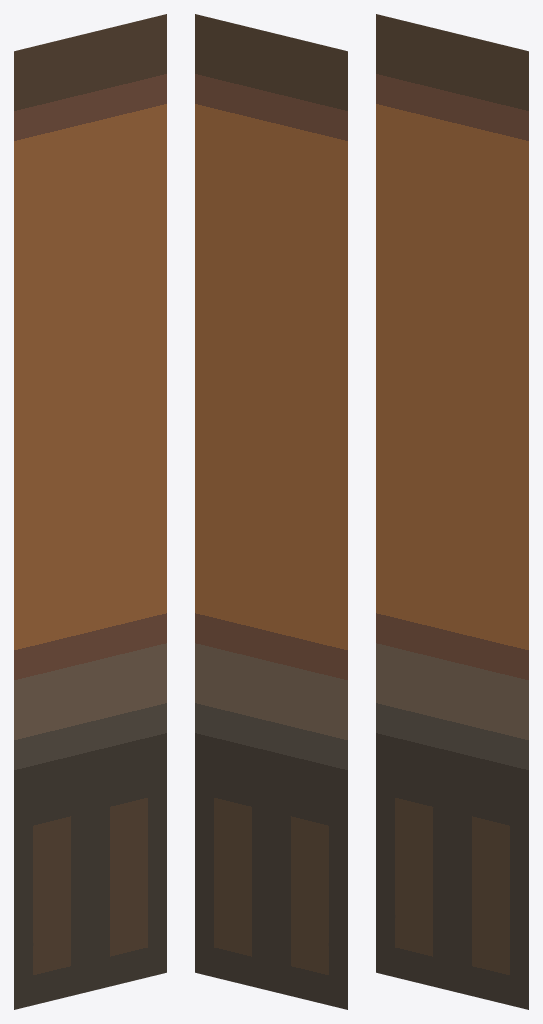
The picture shows the model from 3 angles, left to right: view 1: azimuth 30°, elevation 25°; view 2: azimuth 150°, elevation 25°; view 3: azimuth 330°, elevation 25°; orthographic projection.
Bounding box in the file's own units: 0.5 × 3 × 0.
1 material, 1 textured.
